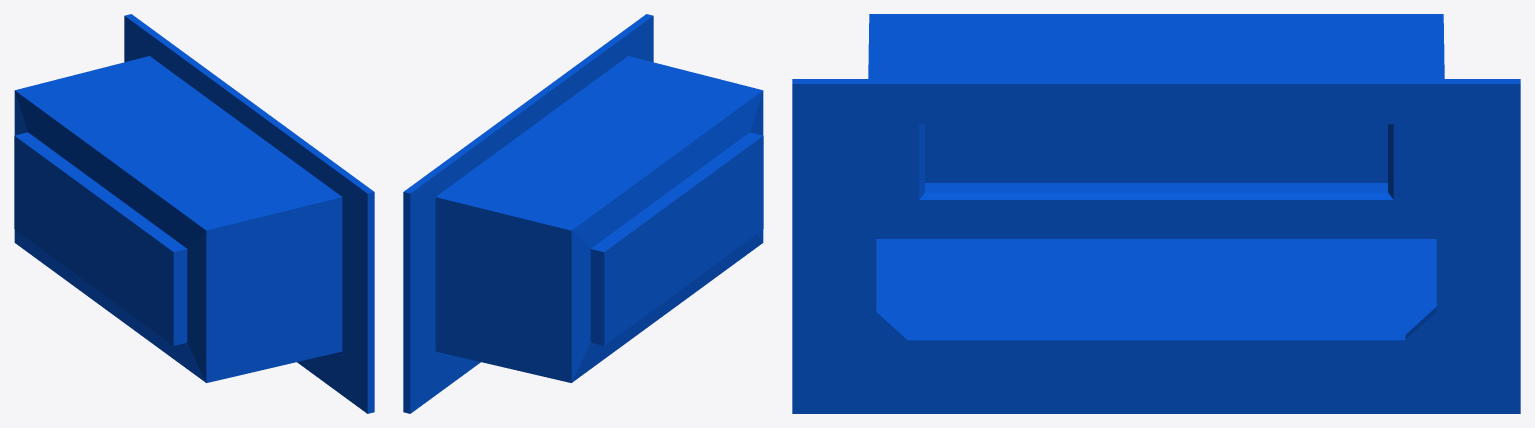
File: room.bed.fbx
3 views of the same model, side by side, from view 1: azimuth 30°, elevation 25°; view 2: azimuth 150°, elevation 25°; view 3: azimuth 270°, elevation 25° (orthographic). The views are drawn at different scales.
Parts seen in each view (by area): view 1: room.bed; view 2: room.bed; view 3: room.bed.
Boxes of the visible parts, box(x1,y1,x2,y2) form: room.bed: box(14, 14, 374, 413); room.bed: box(403, 14, 763, 413); room.bed: box(792, 14, 1520, 413).
Size of the model in its own units: 227 by 300 by 600.
